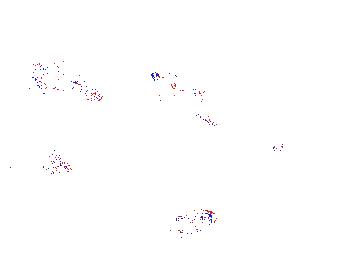X-ray fish: (169, 208, 216, 238), (35, 145, 73, 174)
glassfish: (154, 92, 227, 140), (9, 66, 70, 98)
red belly glassfish: (272, 134, 300, 153), (328, 28, 342, 42)
redtail glassfish: (35, 59, 106, 102), (150, 70, 207, 105)
